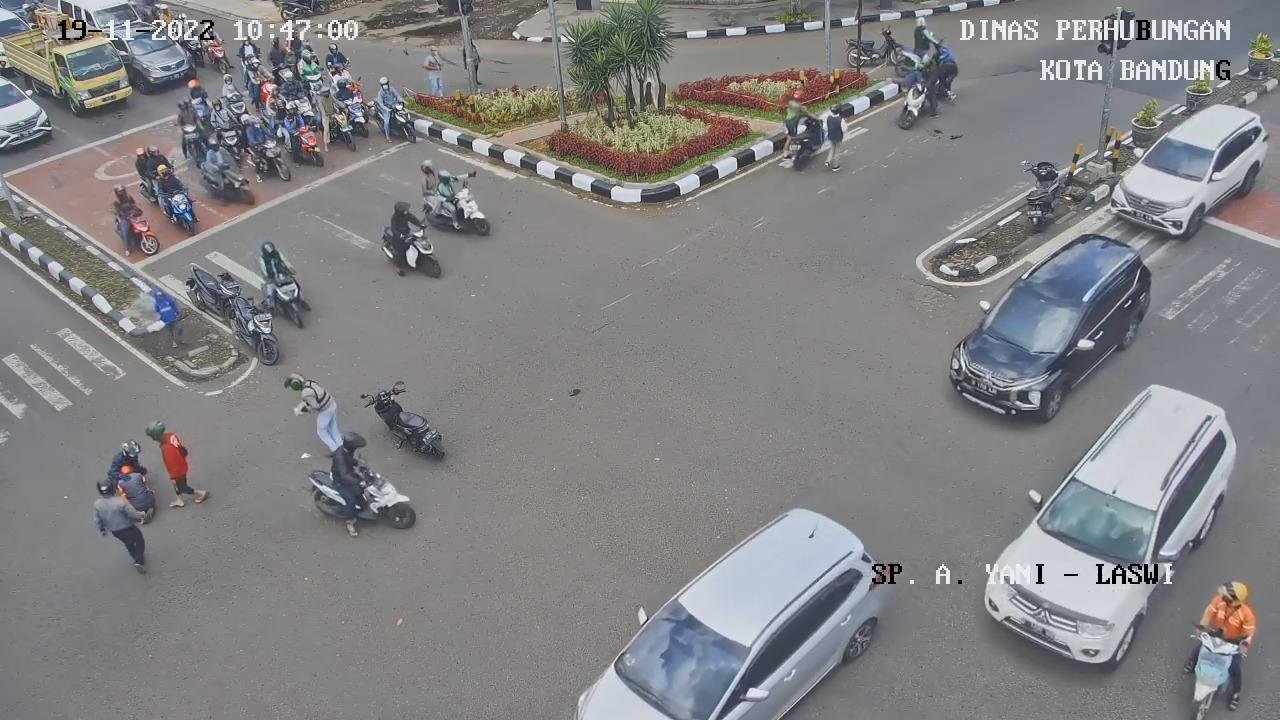accident: (105, 445, 167, 531)
